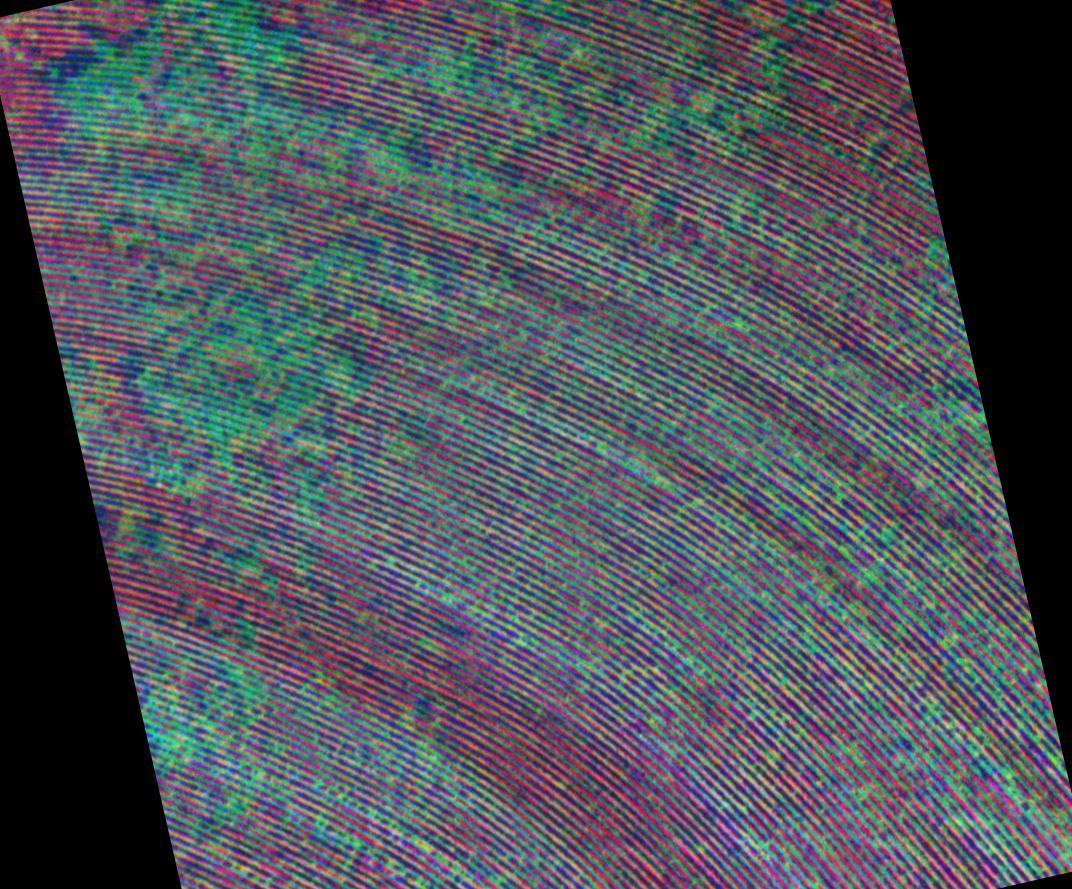dc: (148, 665, 222, 762), (223, 15, 302, 101), (276, 280, 333, 375), (161, 358, 231, 433), (76, 53, 141, 128)
